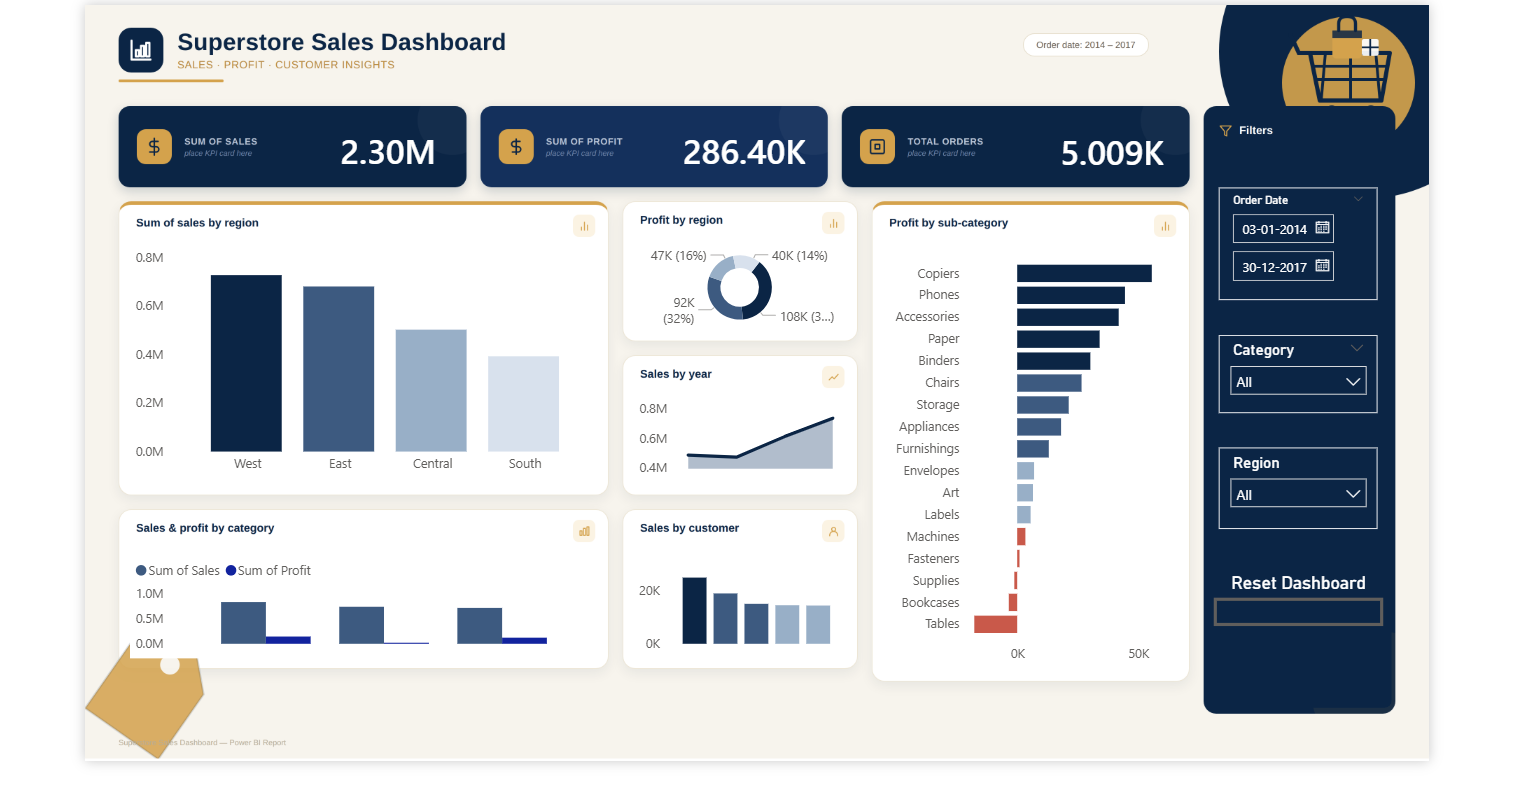

This screenshot's page, from the dashboard's own definition file:
{"tool":"powerbi","page":{"name":"Page 1","canvas":[1280,720],"ordinal":0},"visuals":[{"type":"cardVisual","fields":{"Data":["Sum(Orders.Sales)"]},"box":[214.8,84.6,200.4,106.9],"z":0},{"type":"cardVisual","fields":{"Data":["Sum(Orders.Profit)"]},"box":[539.9,84.6,200.4,106.9],"z":1000},{"type":"cardVisual","fields":{"Data":["Count(Orders.Order ID)"]},"box":[900.6,87.9,200.4,100.2],"z":2000},{"type":"clusteredColumnChart","fields":{"Category":["Orders.Region"],"Y":["Sum(Orders.Sales)"]},"box":[42.3,226,452,229.3],"z":3000},{"type":"donutChart","fields":{"Category":["Orders.Region"],"Y":["Sum(Orders.Profit)"]},"box":[518.6,225.6,209.3,88.4],"z":4000},{"type":"clusteredColumnChart","fields":{"Category":["Orders.Category"],"Y":["Sum(Orders.Sales)","Sum(Orders.Profit)"]},"box":[42.3,518.7,452,103.5],"z":5000},{"type":"clusteredBarChart","fields":{"Category":["Orders.Sub-Category"],"Y":["Sum(Orders.Profit)"]},"box":[761.4,226,279.4,409.6],"z":6000},{"type":"areaChart","fields":{"Category":["Orders.Order Date.Variation.Date Hierarchy.Year"],"Y":["Sum(Orders.Sales)"]},"box":[523.2,370.7,204.8,84.6],"z":7000},{"type":"clusteredColumnChart","fields":{"Category":["Orders.Customer Name"],"Y":["Sum(Orders.Sales)"]},"box":[523.2,518.7,204.8,103.5],"z":8000},{"type":"shape","box":[1067.4,138.4,176.7,531.4],"z":9000},{"type":"slicer","fields":{"Values":["Orders.Order Date"]},"box":[1079.8,173.7,151.4,128],"z":10000},{"type":"slicer","fields":{"Values":["Orders.Category"]},"box":[1079.8,322.8,151.4,74.6],"z":11000},{"type":"slicer","fields":{"Values":["Orders.Region"]},"box":[1079.8,421.9,151.4,77.9],"z":12000},{"type":"actionButton","title":"Reset Dashboard","box":[1075.3,539.9,161.4,51.2],"z":13000}]}

Visuals, with their boxes on the page's 1280x720 design canvas (x1, y1, x2, y2). These are canvas units, not pixel positions in the 1521x787 screenshot, which may show the page scaled, cropped or inside an application window:
cardVisual - Sum(Orders.Sales): select_region(215, 85, 415, 192)
cardVisual - Sum(Orders.Profit): select_region(540, 85, 740, 192)
cardVisual - Count(Orders.Order ID): select_region(901, 88, 1101, 188)
clusteredColumnChart - Orders.Region x Sum(Orders.Sales): select_region(42, 226, 494, 455)
donutChart - Orders.Region x Sum(Orders.Profit): select_region(519, 226, 728, 314)
clusteredColumnChart - Orders.Category x Sum(Orders.Sales): select_region(42, 519, 494, 622)
clusteredBarChart - Orders.Sub-Category x Sum(Orders.Profit): select_region(761, 226, 1041, 636)
areaChart - Orders.Order Date.Variation.Date Hierarchy.Year x Sum(Orders.Sales): select_region(523, 371, 728, 455)
clusteredColumnChart - Orders.Customer Name x Sum(Orders.Sales): select_region(523, 519, 728, 622)
shape: select_region(1067, 138, 1244, 670)
slicer - Orders.Order Date: select_region(1080, 174, 1231, 302)
slicer - Orders.Category: select_region(1080, 323, 1231, 397)
slicer - Orders.Region: select_region(1080, 422, 1231, 500)
"Reset Dashboard" actionButton: select_region(1075, 540, 1237, 591)
